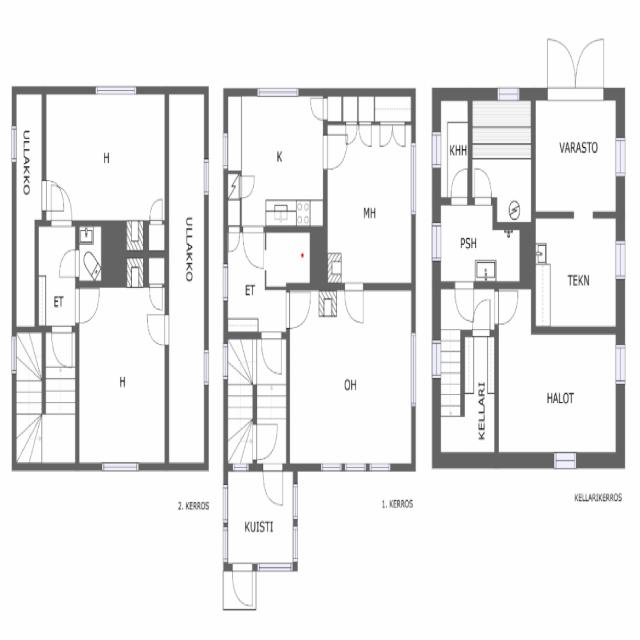door: (575, 38, 604, 100), (547, 38, 576, 100), (252, 424, 278, 459), (261, 331, 282, 374), (233, 562, 253, 606), (286, 292, 311, 327), (51, 186, 72, 227), (244, 225, 264, 268), (263, 463, 283, 505), (52, 326, 72, 367), (323, 135, 347, 168), (75, 289, 99, 322), (495, 290, 518, 323), (455, 282, 474, 321), (42, 179, 64, 211), (345, 283, 363, 321), (148, 314, 170, 344), (473, 299, 490, 336), (475, 170, 491, 205), (451, 171, 467, 205), (60, 250, 79, 277), (149, 284, 163, 311), (311, 99, 327, 120), (392, 121, 405, 146), (359, 121, 372, 146), (228, 225, 240, 252), (240, 176, 255, 197), (380, 121, 392, 146), (150, 200, 162, 225), (345, 121, 357, 144)
